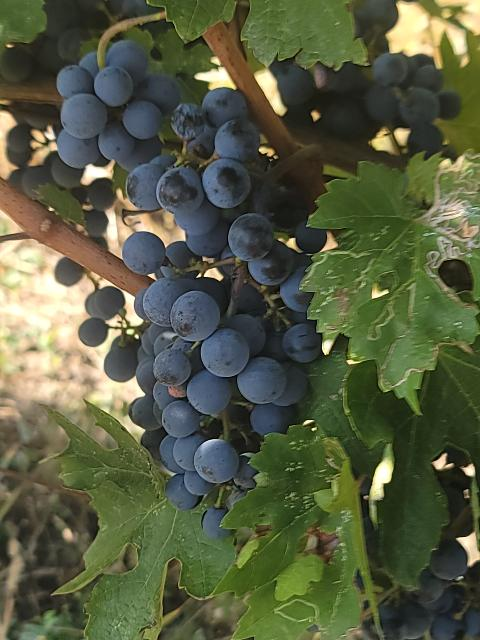grapes: (126, 118, 321, 510), (56, 40, 180, 170)
